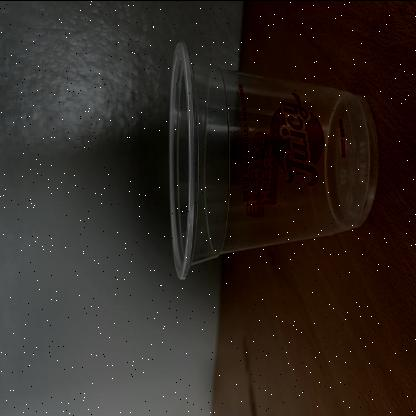Others: (168, 41, 378, 280)
